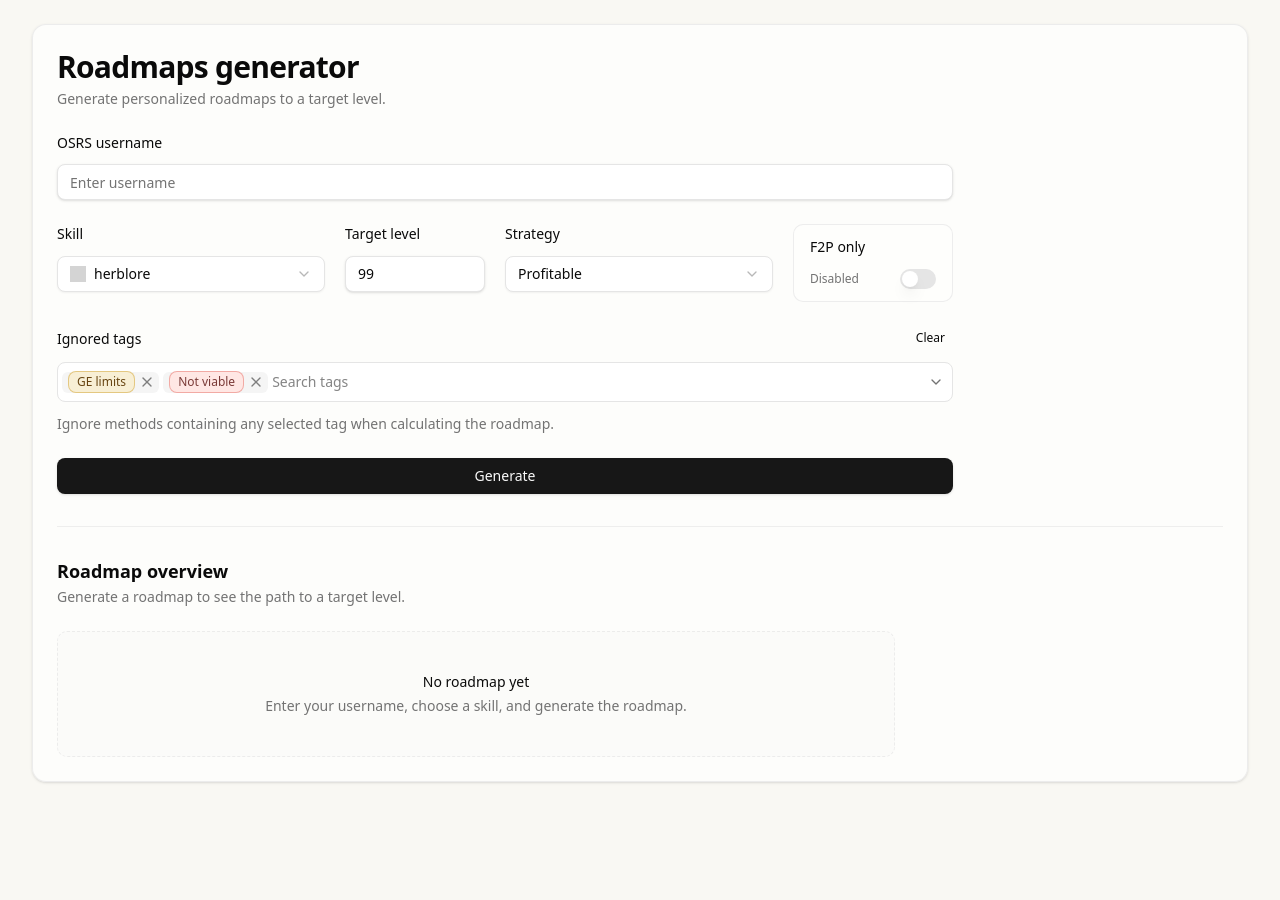
Test case: RoadmapsPage › renders the timeline layout with variant icons and xp left
Type "carmixtank" into the field labelled "OSRS username" at (505,182), box x1=57 y1=164 x2=953 y2=200
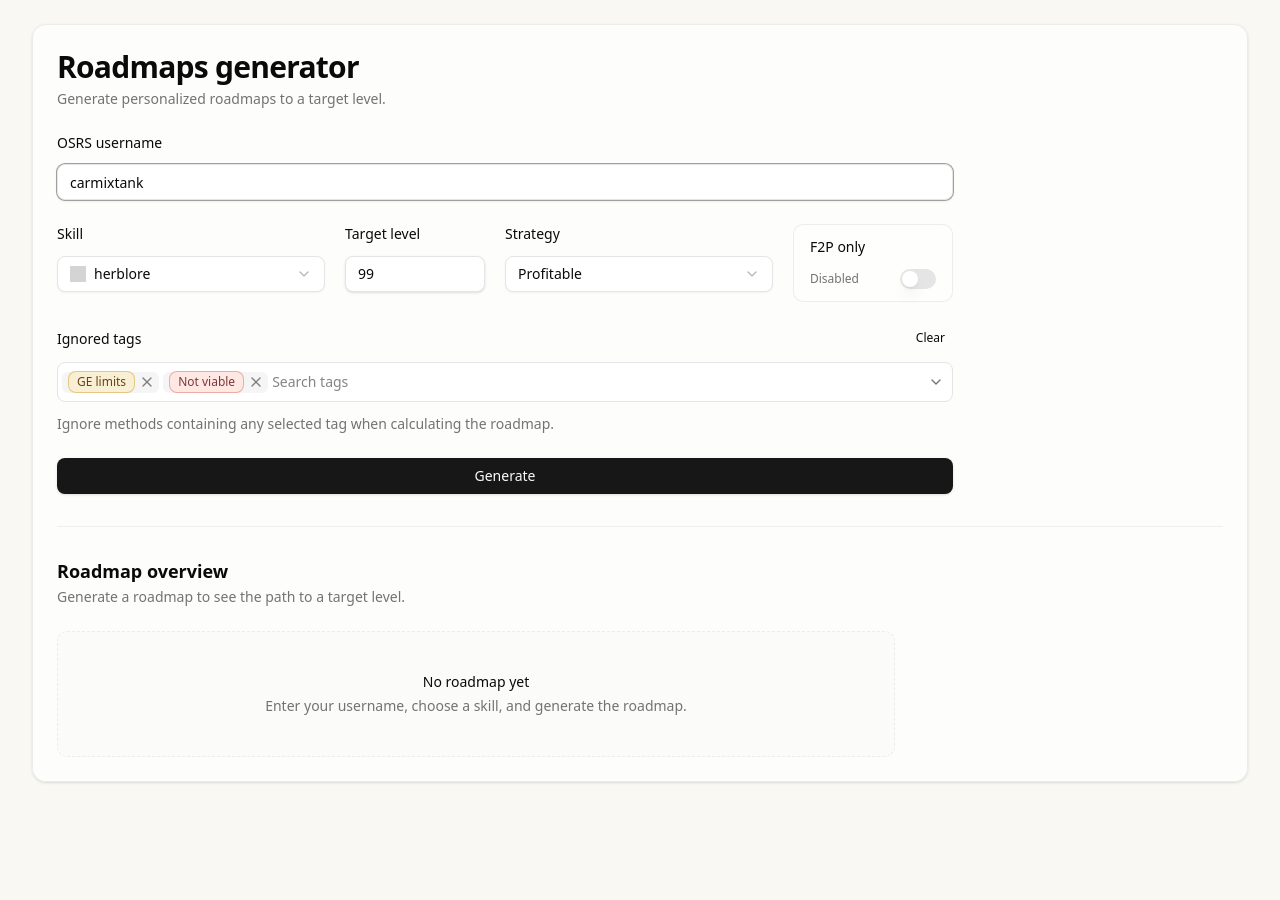
Click the button "Generate" at (505,476), box x1=57 y1=458 x2=953 y2=494
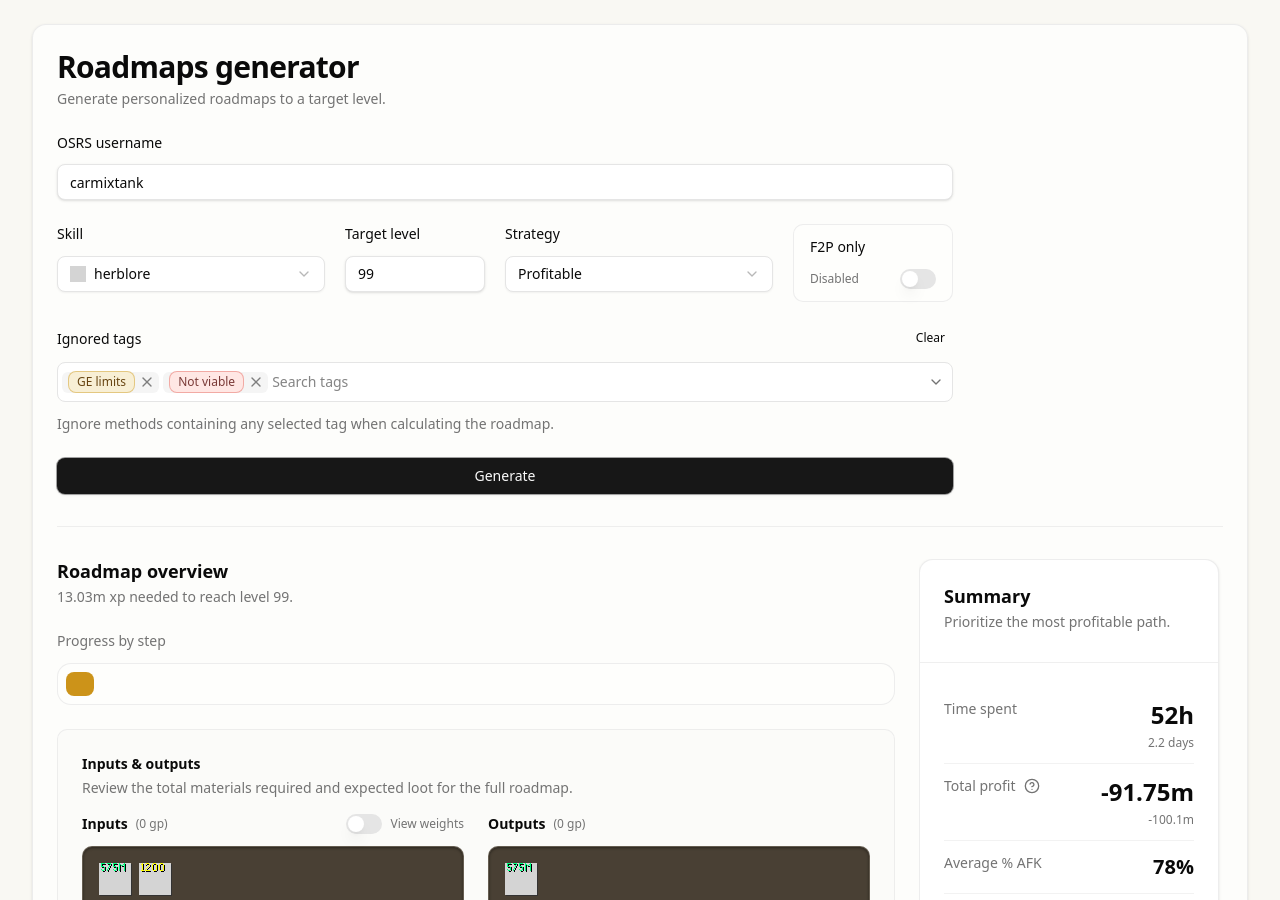
Check: the text "13.03m xp needed to reach level 99." is shown, box x1=57 y1=587 x2=293 y2=607
Check: the text "Average % AFK" is shown, box x1=944 y1=853 x2=1042 y2=873
Check: the heading "Inputs & outputs" is shown, box x1=82 y1=754 x2=201 y2=773
